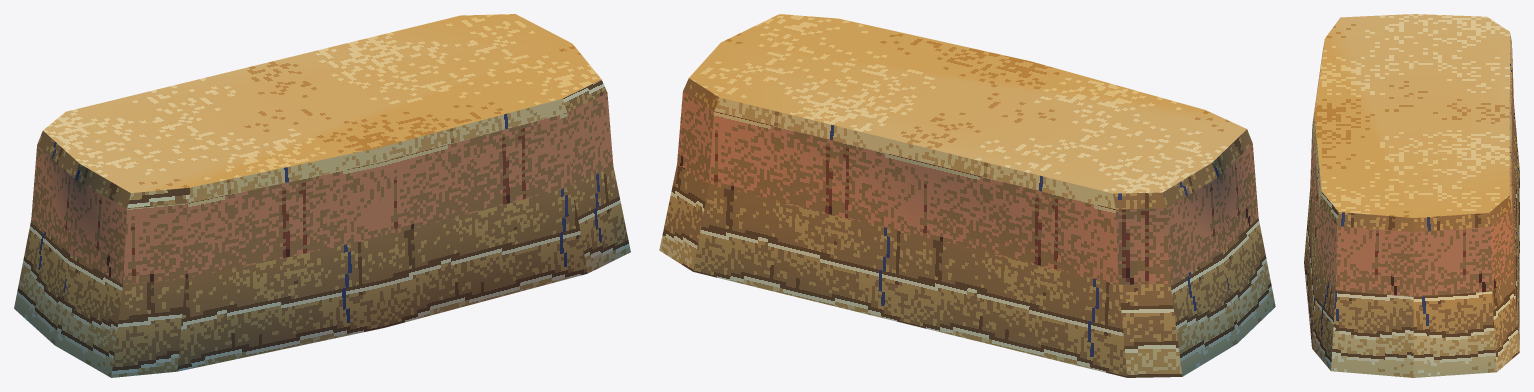
The model's file is wland.ledge__high.glb.
3 renders of one model, left to right at view 1: azimuth 30°, elevation 25°; view 2: azimuth 150°, elevation 25°; view 3: azimuth 270°, elevation 25°, orthographic. The views are drawn at different scales.
Parts seen in each view (by area): view 1: kit_ledge; view 2: kit_ledge; view 3: kit_ledge.
Boxes of the visible parts, x1=… form: kit_ledge: x1=14, y1=14, x2=630, y2=377; kit_ledge: x1=659, y1=14, x2=1275, y2=377; kit_ledge: x1=1304, y1=14, x2=1519, y2=377.
Bounding box in the file's own units: 10.38 × 3.2 × 4.2.
Materials: 4 (4 with a texture image).
